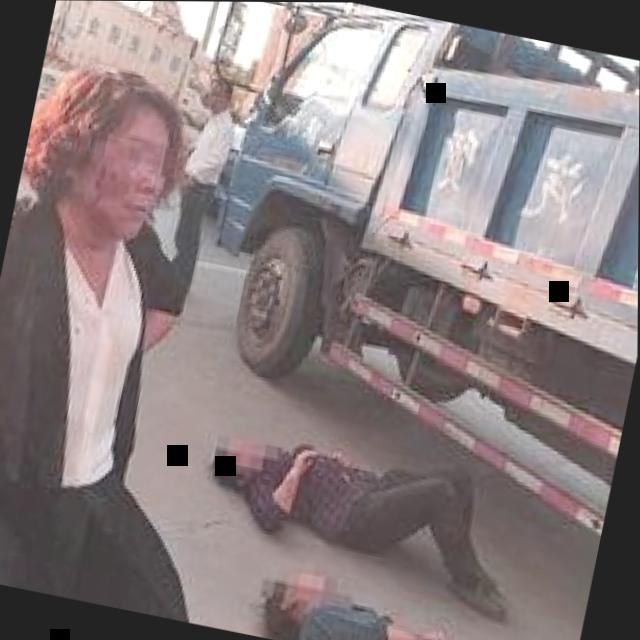Fall-Detected: (202, 397, 544, 607)
